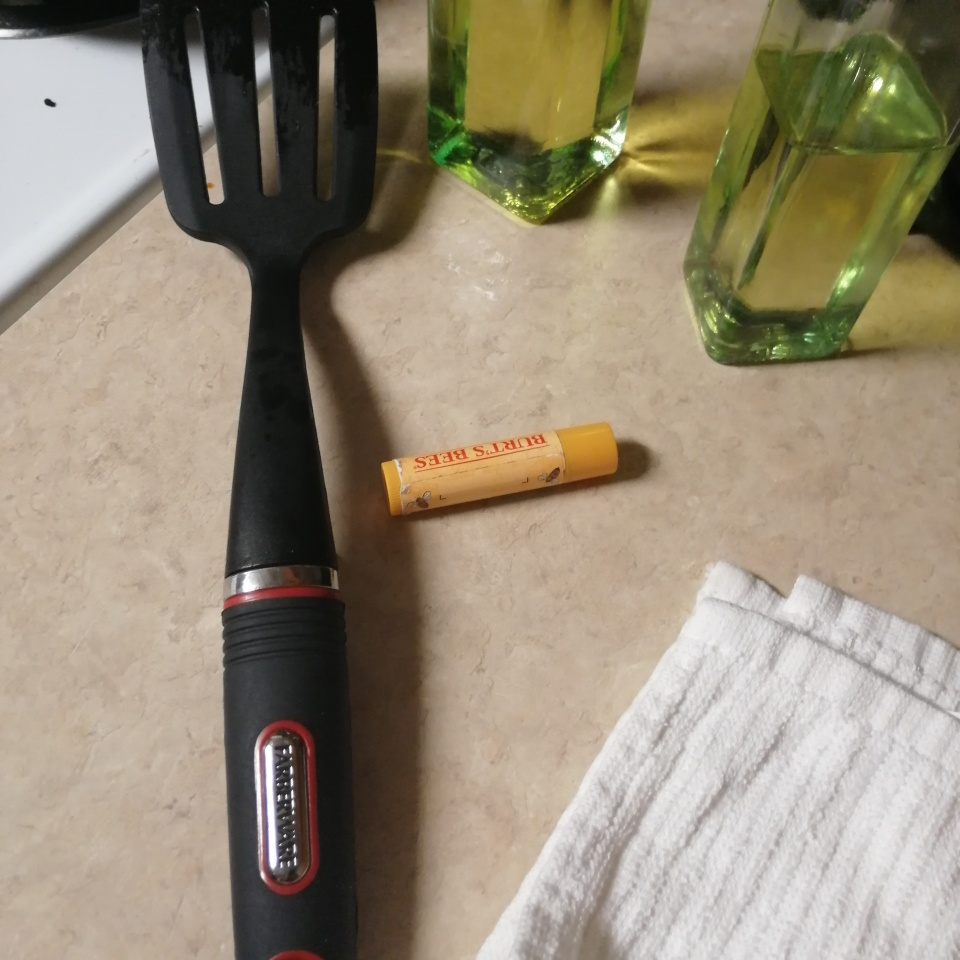chapstick: (379, 420, 620, 518)
